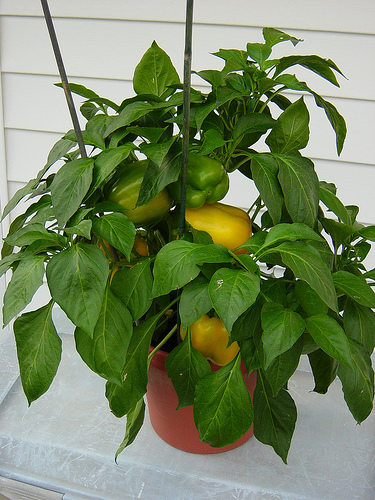capsicum: (112, 158, 168, 221), (181, 310, 241, 367), (183, 202, 251, 252), (181, 145, 226, 217)
